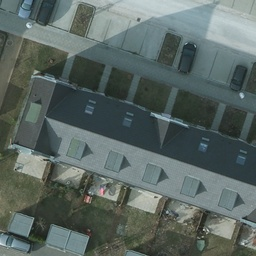car: (0, 230, 34, 253), (177, 42, 195, 75), (230, 61, 247, 93), (36, 0, 56, 26), (16, 0, 37, 19)
